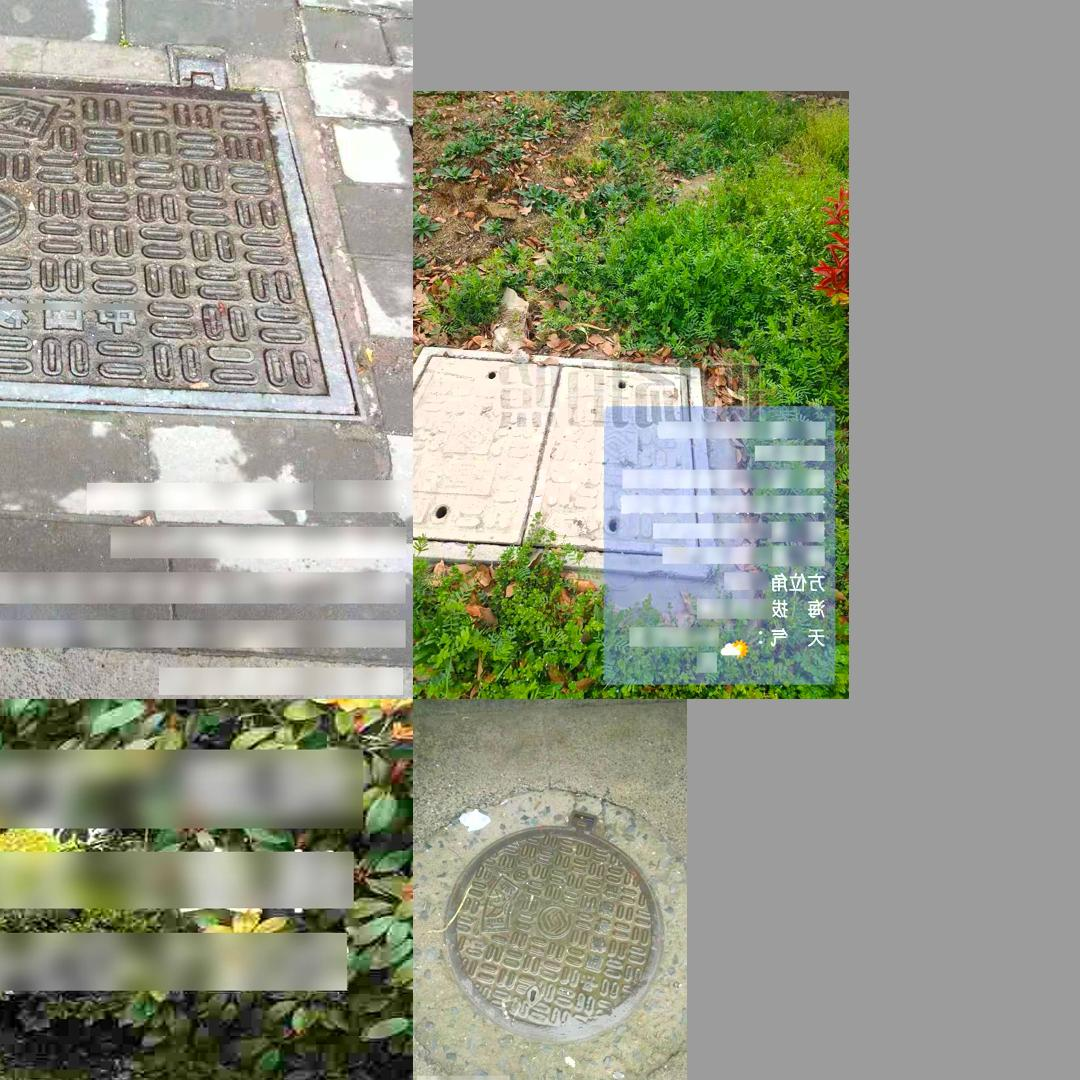good: (0, 18, 368, 418), (413, 346, 719, 578), (445, 809, 665, 1045)
